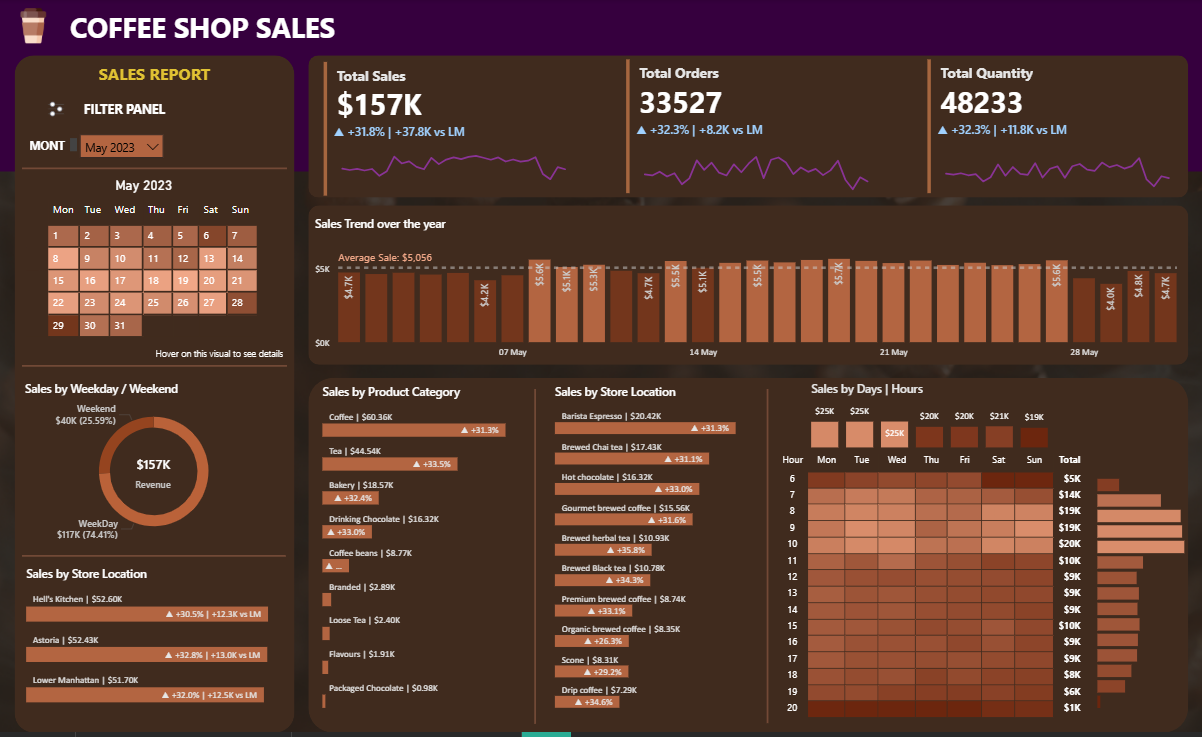

The page's visual inventory and layout, read from the dashboard file:
{"tool":"powerbi","page":{"name":"Page 1","canvas":[1400,850],"ordinal":0},"visuals":[{"type":"shape","box":[0,0,1399.3,199.9],"z":0},{"type":"cardVisual","fields":{"Data":["Coffee Shop Sales.Total Orders"]},"box":[723.5,65.2,299.8,165.1],"z":0,"group":"g2"},{"type":"cardVisual","fields":{"Data":["Coffee Shop Sales.Total Quantity"]},"box":[1073.4,65.2,299.8,165.1],"z":0,"group":"g3"},{"type":"shape","box":[20.3,65.2,324.5,785.1],"z":1000},{"type":"lineChart","fields":{"Category":["Date Table.Date Hierarchy.Date"],"Y":["Coffee Shop Sales.Total Orders"]},"box":[735.1,142,288.3,85.5],"z":1000,"group":"g2"},{"type":"lineChart","fields":{"Category":["Date Table.Date Hierarchy.Date"],"Y":["Coffee Shop Sales.Total Quantity"]},"box":[1085,142,288.3,85.5],"z":1000,"group":"g3"},{"type":"shape","box":[360.7,65.2,1019.8,165.1],"z":2000},{"type":"textbox","box":[79.7,5.8,344.8,62.3],"z":3000},{"type":"image","box":[0,5.8,84,50.7],"z":4000},{"type":"cardVisual","fields":{"Data":["Coffee Shop Sales.Total Sales"]},"box":[373.7,68.1,299.8,165.1],"z":4001,"group":"g1"},{"type":"lineChart","fields":{"Category":["Date Table.Date Hierarchy.Date"],"Y":["Coffee Shop Sales.Total Sales"]},"box":[385.3,144.9,288.3,85.5],"z":4003,"group":"g1"},{"type":"slicer","fields":{"Values":["Date Table.Month Year"]},"box":[91.6,151.6,106.6,36],"z":5000},{"type":"group","id":"g1","title":"Group 1","box":[373.7,68.1,299.8,165.1],"z":6000},{"type":"group","id":"g2","title":"Group 1","box":[723.5,65.2,299.8,165.1],"z":7000},{"type":"group","id":"g3","title":"Group 1","box":[1073.4,65.2,299.8,165.1],"z":8000},{"type":"pivotTable","fields":{"Rows":["Date Table.Week num"],"Columns":["Date Table.Days"],"Values":["Min(Date Table.Day number)"]},"box":[29,227.4,305.6,197],"z":9000},{"type":"card","fields":{"Values":["Min(Date Table.Month Year)"]},"box":[128.9,201.3,82.6,31.9],"z":10000},{"type":"card","fields":{"Values":["Coffee Shop Sales.Foot Note"]},"box":[176.7,396.9,162.2,33.3],"z":11000},{"type":"shape","box":[29,404.1,307.1,42],"z":12000},{"type":"shape","box":[29,175.3,307.1,42],"z":13000},{"type":"donutChart","title":"Sales by Weekday / Weekend","fields":{"Category":["Date Table.Weekdays / Weekends"],"Y":["Coffee Shop Sales.Total Sales"]},"box":[27.5,441.8,308.5,194.1],"z":14000},{"type":"card","fields":{"Values":["Coffee Shop Sales.Total Sales"]},"box":[123.1,521.5,115.9,53.6],"z":15000},{"type":"shape","box":[29,624.3,305.6,42],"z":16000},{"type":"clusteredBarChart","title":"Sales by Store Location ","fields":{"Y":["Coffee Shop Sales.placeholder","Coffee Shop Sales.Total Sales"],"Category":["Coffee Shop Sales.store_location"]},"box":[29,656.2,315.8,166.6],"z":17000},{"type":"shape","box":[360.7,239,1019.8,185],"z":18000},{"type":"shape","box":[360.7,438.9,1019.8,411.4],"z":18500},{"type":"columnChart","title":"Sales Trend over the year ","fields":{"Y":["Coffee Shop Sales.Total Sales"],"Category":["Coffee Shop Sales.transaction_date"]},"box":[363.6,250.6,1012.5,175.3],"z":19000},{"type":"clusteredBarChart","title":"Sales by Product Category","fields":{"Y":["Coffee Shop Sales.placeholder","Coffee Shop Sales.Total Sales"],"Category":["Coffee Shop Sales.product_category"]},"box":[372.2,445.8,250.6,381.2],"z":21000},{"type":"shape","box":[605.5,451.9,36.2,388.2],"z":21001},{"type":"clusteredBarChart","title":"Sales by Store Location ","fields":{"Y":["Coffee Shop Sales.placeholder","Coffee Shop Sales.Total Sales"],"Category":["Coffee Shop Sales.product_type"]},"box":[641.7,446.2,250.6,381],"z":21002},{"type":"shape","box":[875,451.8,36,387.2],"z":21003},{"type":"pivotTable","fields":{"Rows":["Coffee Shop Sales.hour"],"Columns":["Date Table.Days"],"Values":["Coffee Shop Sales.Total Sales"]},"box":[899,520.8,370.7,319.7],"z":21004},{"type":"barChart","fields":{"Y":["Coffee Shop Sales.Total Sales"],"Category":["Coffee Shop Sales.hour"]},"box":[1269.7,543.3,112.6,283.7],"z":21005},{"type":"columnChart","title":"Sales by Days | Hours","fields":{"Y":["Coffee Shop Sales.Total Sales"],"Category":["Date Table.Days"]},"box":[938,441.3,285.2,84],"z":21006},{"type":"textbox","box":[20.3,156.4,76.8,29],"z":21007},{"type":"textbox","box":[112.6,69,150.1,46.5],"z":21008},{"type":"textbox","box":[96.1,112.6,115.6,30],"z":21009},{"type":"image","box":[45,112.6,46.5,30],"z":21010}]}

Visuals, with their boxes in screenshot pixels (x1, y1, x2, y2), scaled from the page's 1400x850 canvas onto the 1202x737 screenshot:
shape: BBox(0, 0, 1201, 173)
cardVisual - Coffee Shop Sales.Total Orders: BBox(621, 57, 879, 200)
cardVisual - Coffee Shop Sales.Total Quantity: BBox(922, 57, 1179, 200)
shape: BBox(17, 57, 296, 736)
lineChart - Date Table.Date Hierarchy.Date x Coffee Shop Sales.Total Orders: BBox(631, 123, 879, 197)
lineChart - Date Table.Date Hierarchy.Date x Coffee Shop Sales.Total Quantity: BBox(932, 123, 1179, 197)
shape: BBox(310, 57, 1185, 200)
textbox: BBox(68, 5, 364, 59)
image: BBox(0, 5, 72, 49)
cardVisual - Coffee Shop Sales.Total Sales: BBox(321, 59, 578, 202)
lineChart - Date Table.Date Hierarchy.Date x Coffee Shop Sales.Total Sales: BBox(331, 126, 578, 200)
slicer - Date Table.Month Year: BBox(79, 131, 170, 163)
"Group 1" group: BBox(321, 59, 578, 202)
"Group 1" group: BBox(621, 57, 879, 200)
"Group 1" group: BBox(922, 57, 1179, 200)
pivotTable - Date Table.Week num x Date Table.Days: BBox(25, 197, 287, 368)
card - Min(Date Table.Month Year): BBox(111, 175, 182, 202)
card - Coffee Shop Sales.Foot Note: BBox(152, 344, 291, 373)
shape: BBox(25, 350, 289, 387)
shape: BBox(25, 152, 289, 188)
"Sales by Weekday / Weekend" donutChart: BBox(24, 383, 288, 551)
card - Coffee Shop Sales.Total Sales: BBox(106, 452, 205, 499)
shape: BBox(25, 541, 287, 578)
"Sales by Store Location " clusteredBarChart: BBox(25, 569, 296, 713)
shape: BBox(310, 207, 1185, 368)
shape: BBox(310, 381, 1185, 736)
"Sales Trend over the year " columnChart: BBox(312, 217, 1181, 369)
"Sales by Product Category" clusteredBarChart: BBox(320, 387, 535, 717)
shape: BBox(520, 392, 551, 728)
"Sales by Store Location " clusteredBarChart: BBox(551, 387, 766, 717)
shape: BBox(751, 392, 782, 727)
pivotTable - Coffee Shop Sales.hour x Date Table.Days: BBox(772, 452, 1090, 729)
barChart - Coffee Shop Sales.Total Sales x Coffee Shop Sales.hour: BBox(1090, 471, 1187, 717)
"Sales by Days | Hours" columnChart: BBox(805, 383, 1050, 455)
textbox: BBox(17, 136, 83, 161)
textbox: BBox(97, 60, 226, 100)
textbox: BBox(83, 98, 182, 124)
image: BBox(39, 98, 79, 124)
